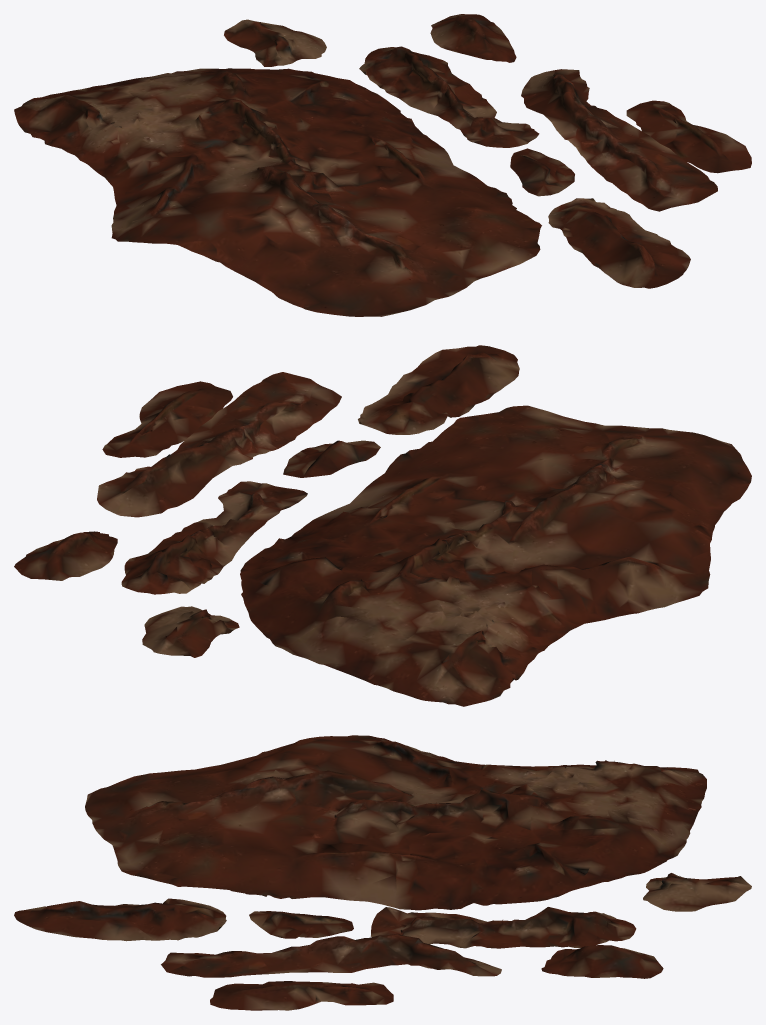
Rendered from root_cluster_02.glb.
3 views of the same model, one above another, from view 1: azimuth 30°, elevation 25°; view 2: azimuth 150°, elevation 25°; view 3: azimuth 270°, elevation 25° (orthographic). The views are drawn at different scales.
Visible parts, largest first — view 1: root_cluster_02_d; view 2: root_cluster_02_d; view 3: root_cluster_02_d.
Part boxes in pixels (x1=…): root_cluster_02_d: x1=14, y1=14, x2=751, y2=316; root_cluster_02_d: x1=14, y1=345, x2=751, y2=706; root_cluster_02_d: x1=14, y1=735, x2=751, y2=1010.
Bounding box in the file's own units: 2.38 × 0.1979 × 2.7.
1 material, 1 textured.
